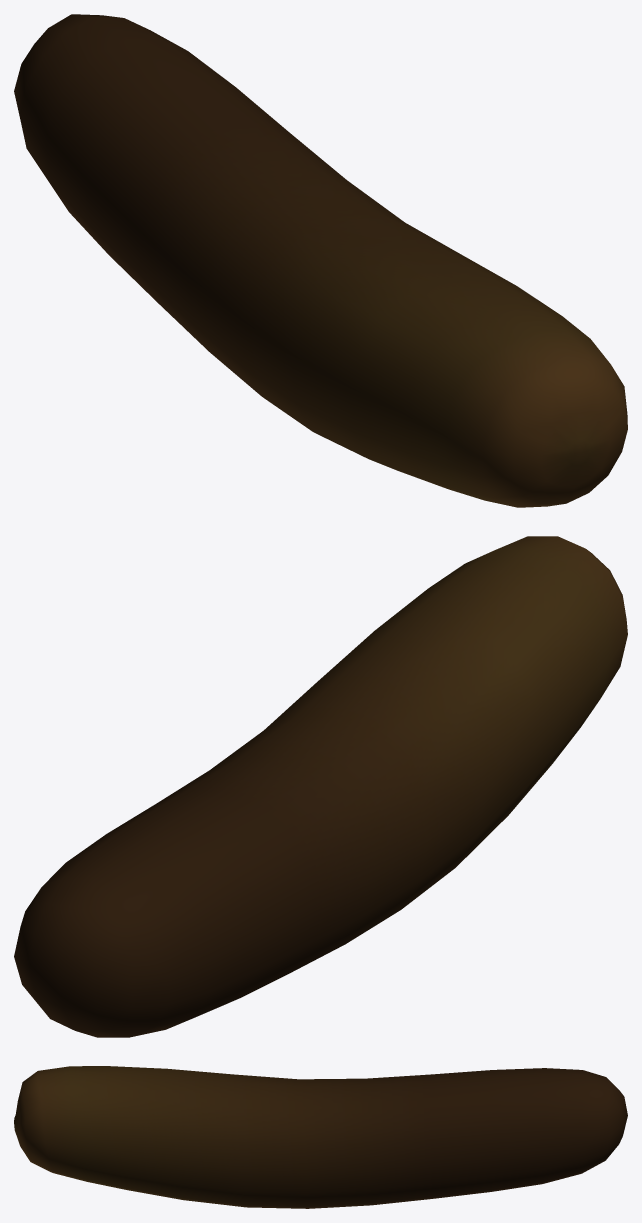
File: Sausage_Regular.fbx
3 renders of one model, top to bottom at view 1: azimuth 30°, elevation 25°; view 2: azimuth 150°, elevation 25°; view 3: azimuth 270°, elevation 25°, orthographic. The views are drawn at different scales.
Visible parts, largest first — view 1: Sausage_Regular; view 2: Sausage_Regular; view 3: Sausage_Regular.
Boxes of the visible parts, x1=… form: Sausage_Regular: x1=14, y1=14, x2=627, y2=507; Sausage_Regular: x1=14, y1=536, x2=627, y2=1037; Sausage_Regular: x1=14, y1=1066, x2=627, y2=1208.
Size of the model in its own units: 12.79 by 14.06 by 60.08.
